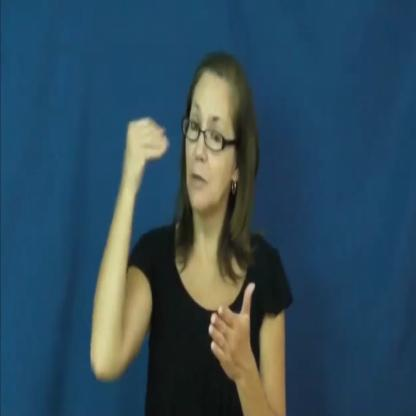Expensive: (119, 114, 256, 384)
